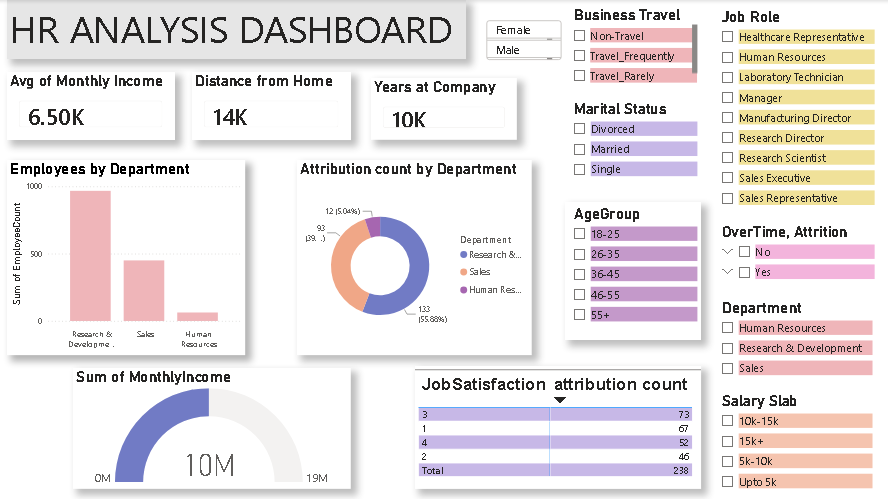

The page's visual inventory and layout, read from the dashboard file:
{"tool":"powerbi","page":{"name":"Page 1","canvas":[1280,720],"ordinal":0},"visuals":[{"type":"textbox","box":[10,0,280,280],"z":0},{"type":"textbox","box":[10.1,0,661,85],"z":1000},{"type":"clusteredColumnChart","title":"Employees by Department","fields":{"Y":["Sum(HR_Analysis.EmployeeCount)"],"Category":["HR_Analysis.Department"]},"box":[10.1,230.4,342.7,280.8],"z":2000},{"type":"cardVisual","fields":{"Rows":["HR_Analysis.Gender"]},"box":[695.5,4.3,118.1,108],"z":3000},{"type":"slicer","fields":{"Values":["HR_Analysis.JobRole"]},"box":[1026.7,7.2,237.6,298.1],"z":5000},{"type":"slicer","fields":{"Values":["HR_Analysis.BusinessTravel"]},"box":[813.6,4.3,195.8,126.7],"z":6000},{"type":"slicer","fields":{"Values":["HR_Analysis.MaritalStatus"]},"box":[813.6,139.7,195.8,155.5],"z":7000},{"type":"donutChart","title":"Attribution count by Department","fields":{"Category":["HR_Analysis.Department"],"Y":["HR_Analysis.attribution count"]},"box":[427.7,230.4,338.4,280.8],"z":8000},{"type":"slicer","fields":{"Values":["HR_Analysis.OverTime","HR_Analysis.Attrition"]},"box":[1026.7,316.8,237.6,109.4],"z":9000},{"type":"slicer","fields":{"Values":["HR_Analysis.AgeGroup"]},"box":[813.6,290.9,195.8,198.7],"z":10000},{"type":"slicer","fields":{"Values":["HR_Analysis.SalarySlab"]},"box":[1026.7,560.2,234.7,159.8],"z":12000},{"type":"cardVisual","title":"Avg of Monthly Income","fields":{"Data":["Avg(HR_Analysis.MonthlyIncome)"]},"box":[10.1,103.7,241.9,97.9],"z":13000},{"type":"slicer","fields":{"Values":["HR_Analysis.Department"]},"box":[1026.7,426.2,234.7,126.7],"z":14000},{"type":"cardVisual","title":"Years at Company","fields":{"Data":["Sum(HR_Analysis.YearsAtCompany)"]},"box":[534.2,112.3,210.2,89.3],"z":15000},{"type":"cardVisual","title":"Distance from Home","fields":{"Data":["Sum(HR_Analysis.DistanceFromHome)"]},"box":[276.5,103.7,229,97.9],"z":16000},{"type":"gauge","fields":{"Y":["Sum(HR_Analysis.MonthlyIncome)"]},"box":[105.1,529.9,400.3,174.2],"z":16001},{"type":"pivotTable","fields":{"Values":["HR_Analysis.attribution count"],"Rows":["HR_Analysis.JobSatisfaction"]},"box":[597.6,527,411.8,177.1],"z":16002}]}

Visuals, with their boxes in screenshot pixels (x1, y1, x2, y2), scaled from the page's 1280x720 canvas onto the 888x499 screenshot:
textbox: x1=7 y1=0 x2=201 y2=194
textbox: x1=7 y1=0 x2=466 y2=59
"Employees by Department" clusteredColumnChart: x1=7 y1=160 x2=245 y2=354
cardVisual - HR_Analysis.Gender: x1=483 y1=3 x2=564 y2=78
slicer - HR_Analysis.JobRole: x1=712 y1=5 x2=877 y2=212
slicer - HR_Analysis.BusinessTravel: x1=564 y1=3 x2=700 y2=91
slicer - HR_Analysis.MaritalStatus: x1=564 y1=97 x2=700 y2=205
"Attribution count by Department" donutChart: x1=297 y1=160 x2=531 y2=354
slicer - HR_Analysis.OverTime x HR_Analysis.Attrition: x1=712 y1=220 x2=877 y2=295
slicer - HR_Analysis.AgeGroup: x1=564 y1=202 x2=700 y2=339
slicer - HR_Analysis.SalarySlab: x1=712 y1=388 x2=875 y2=498
"Avg of Monthly Income" cardVisual: x1=7 y1=72 x2=175 y2=140
slicer - HR_Analysis.Department: x1=712 y1=295 x2=875 y2=383
"Years at Company" cardVisual: x1=371 y1=78 x2=516 y2=140
"Distance from Home" cardVisual: x1=192 y1=72 x2=351 y2=140
gauge - Sum(HR_Analysis.MonthlyIncome): x1=73 y1=367 x2=351 y2=488
pivotTable - HR_Analysis.attribution count x HR_Analysis.JobSatisfaction: x1=415 y1=365 x2=700 y2=488
